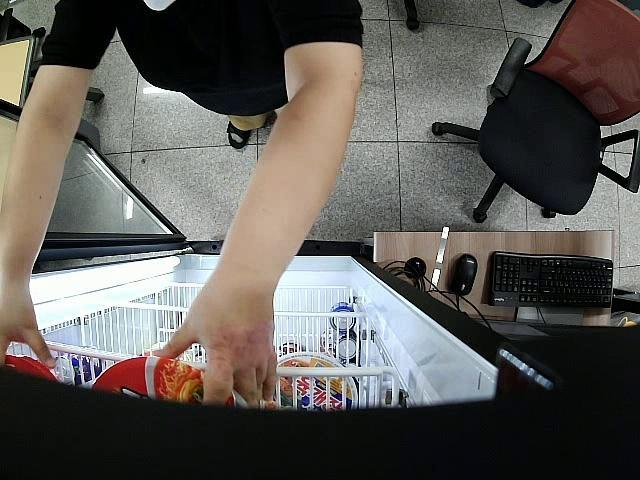10_wangTtukkeong: (94, 354, 238, 410), (0, 351, 59, 386)
